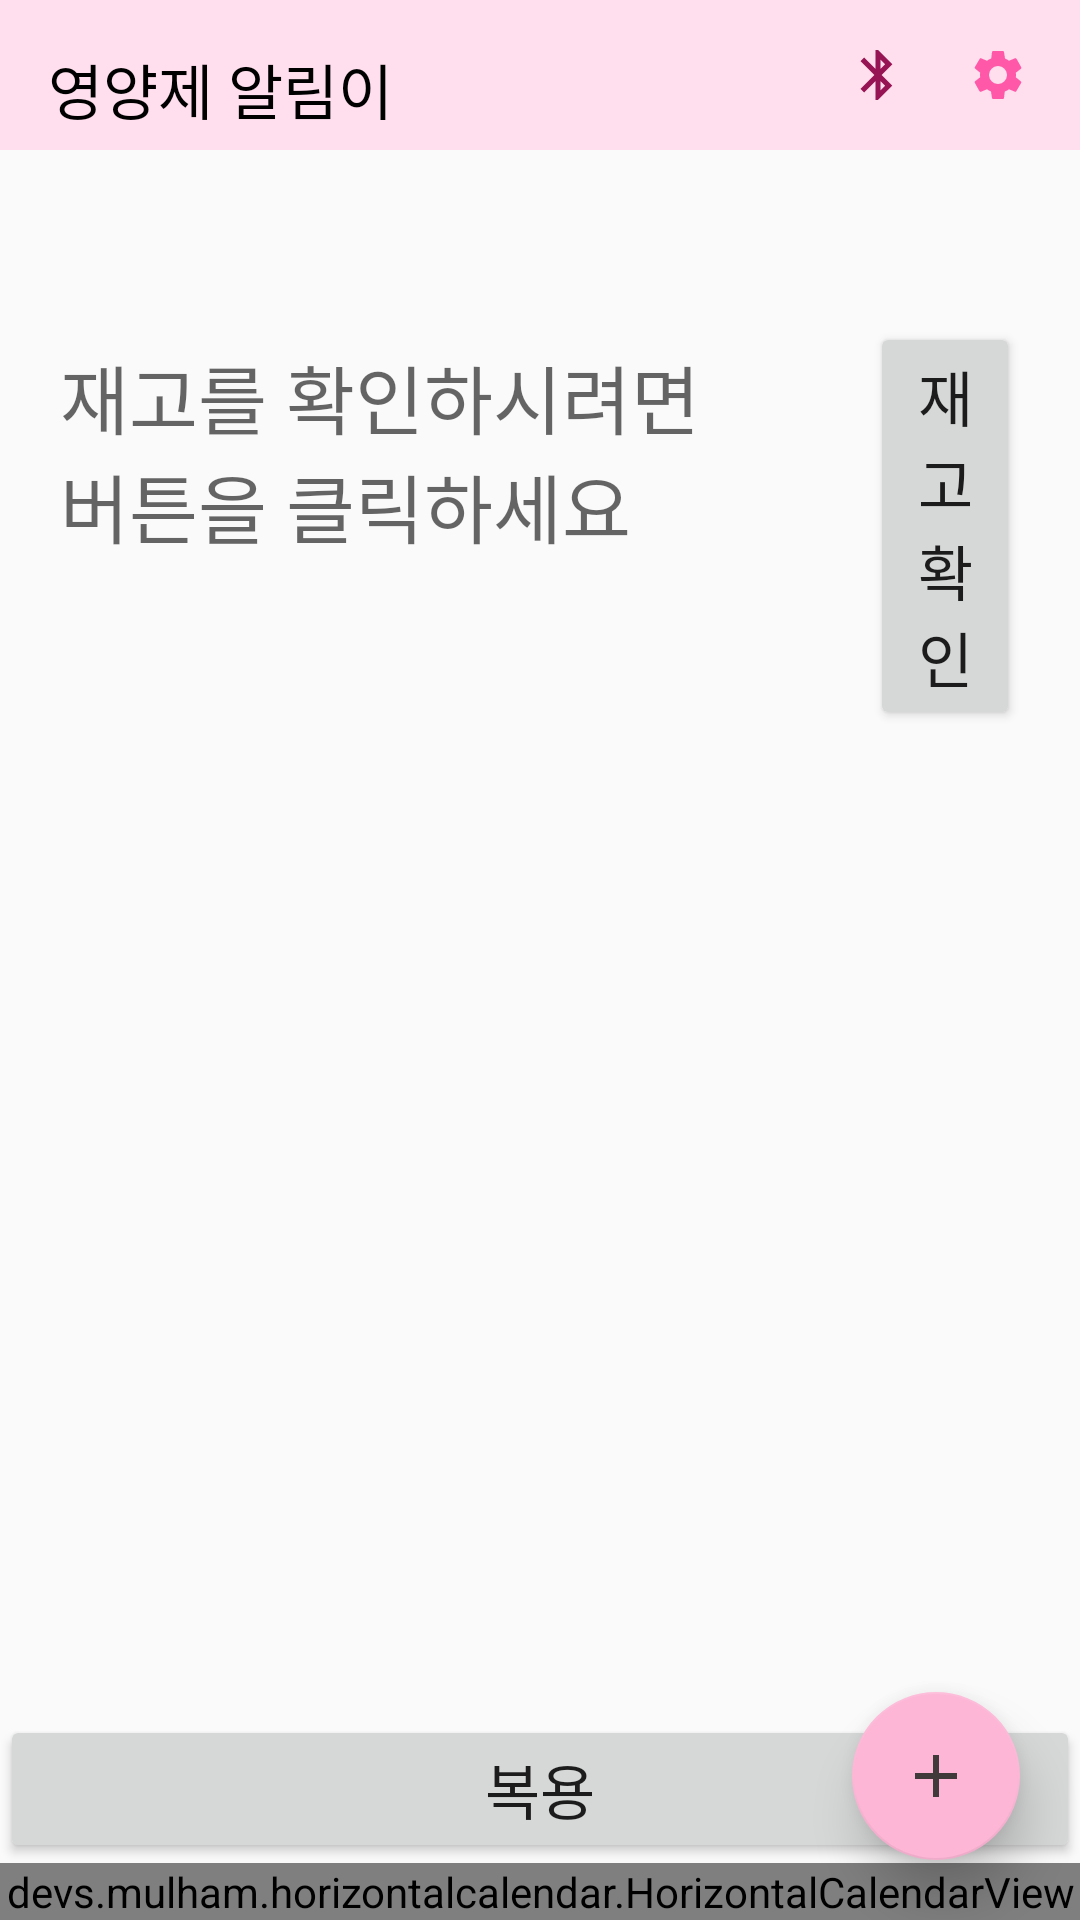

Screen size 1080 x 1920. Icon name, then its center in pixels as (x=x, y=y):
add: (x=936, y=1776)
setup: (x=998, y=75)
